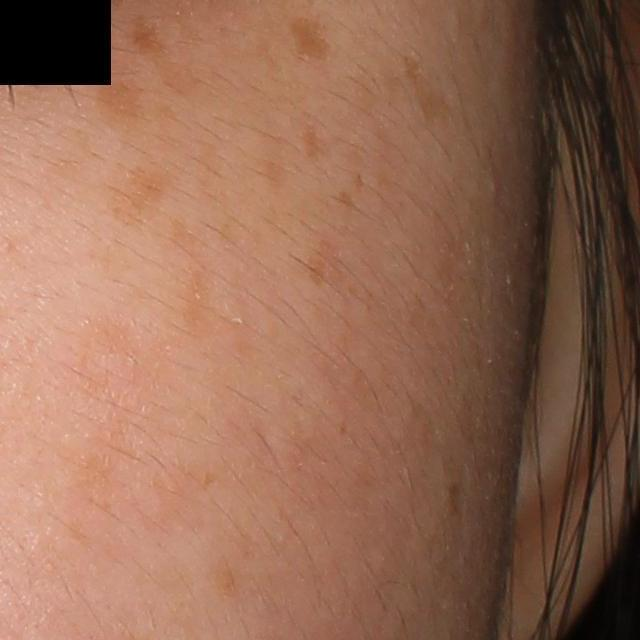melasma: (156, 215, 213, 335), (131, 10, 200, 100), (400, 49, 453, 135), (103, 163, 175, 226), (84, 73, 145, 135), (288, 15, 335, 63), (300, 122, 335, 167), (333, 188, 358, 209), (354, 171, 365, 191)
